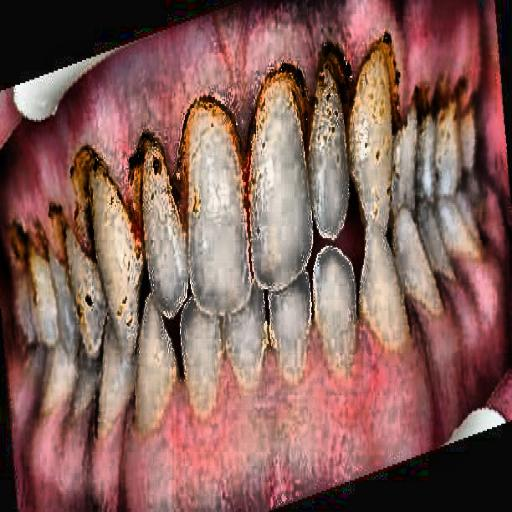Calculus: (54, 40, 492, 222)
